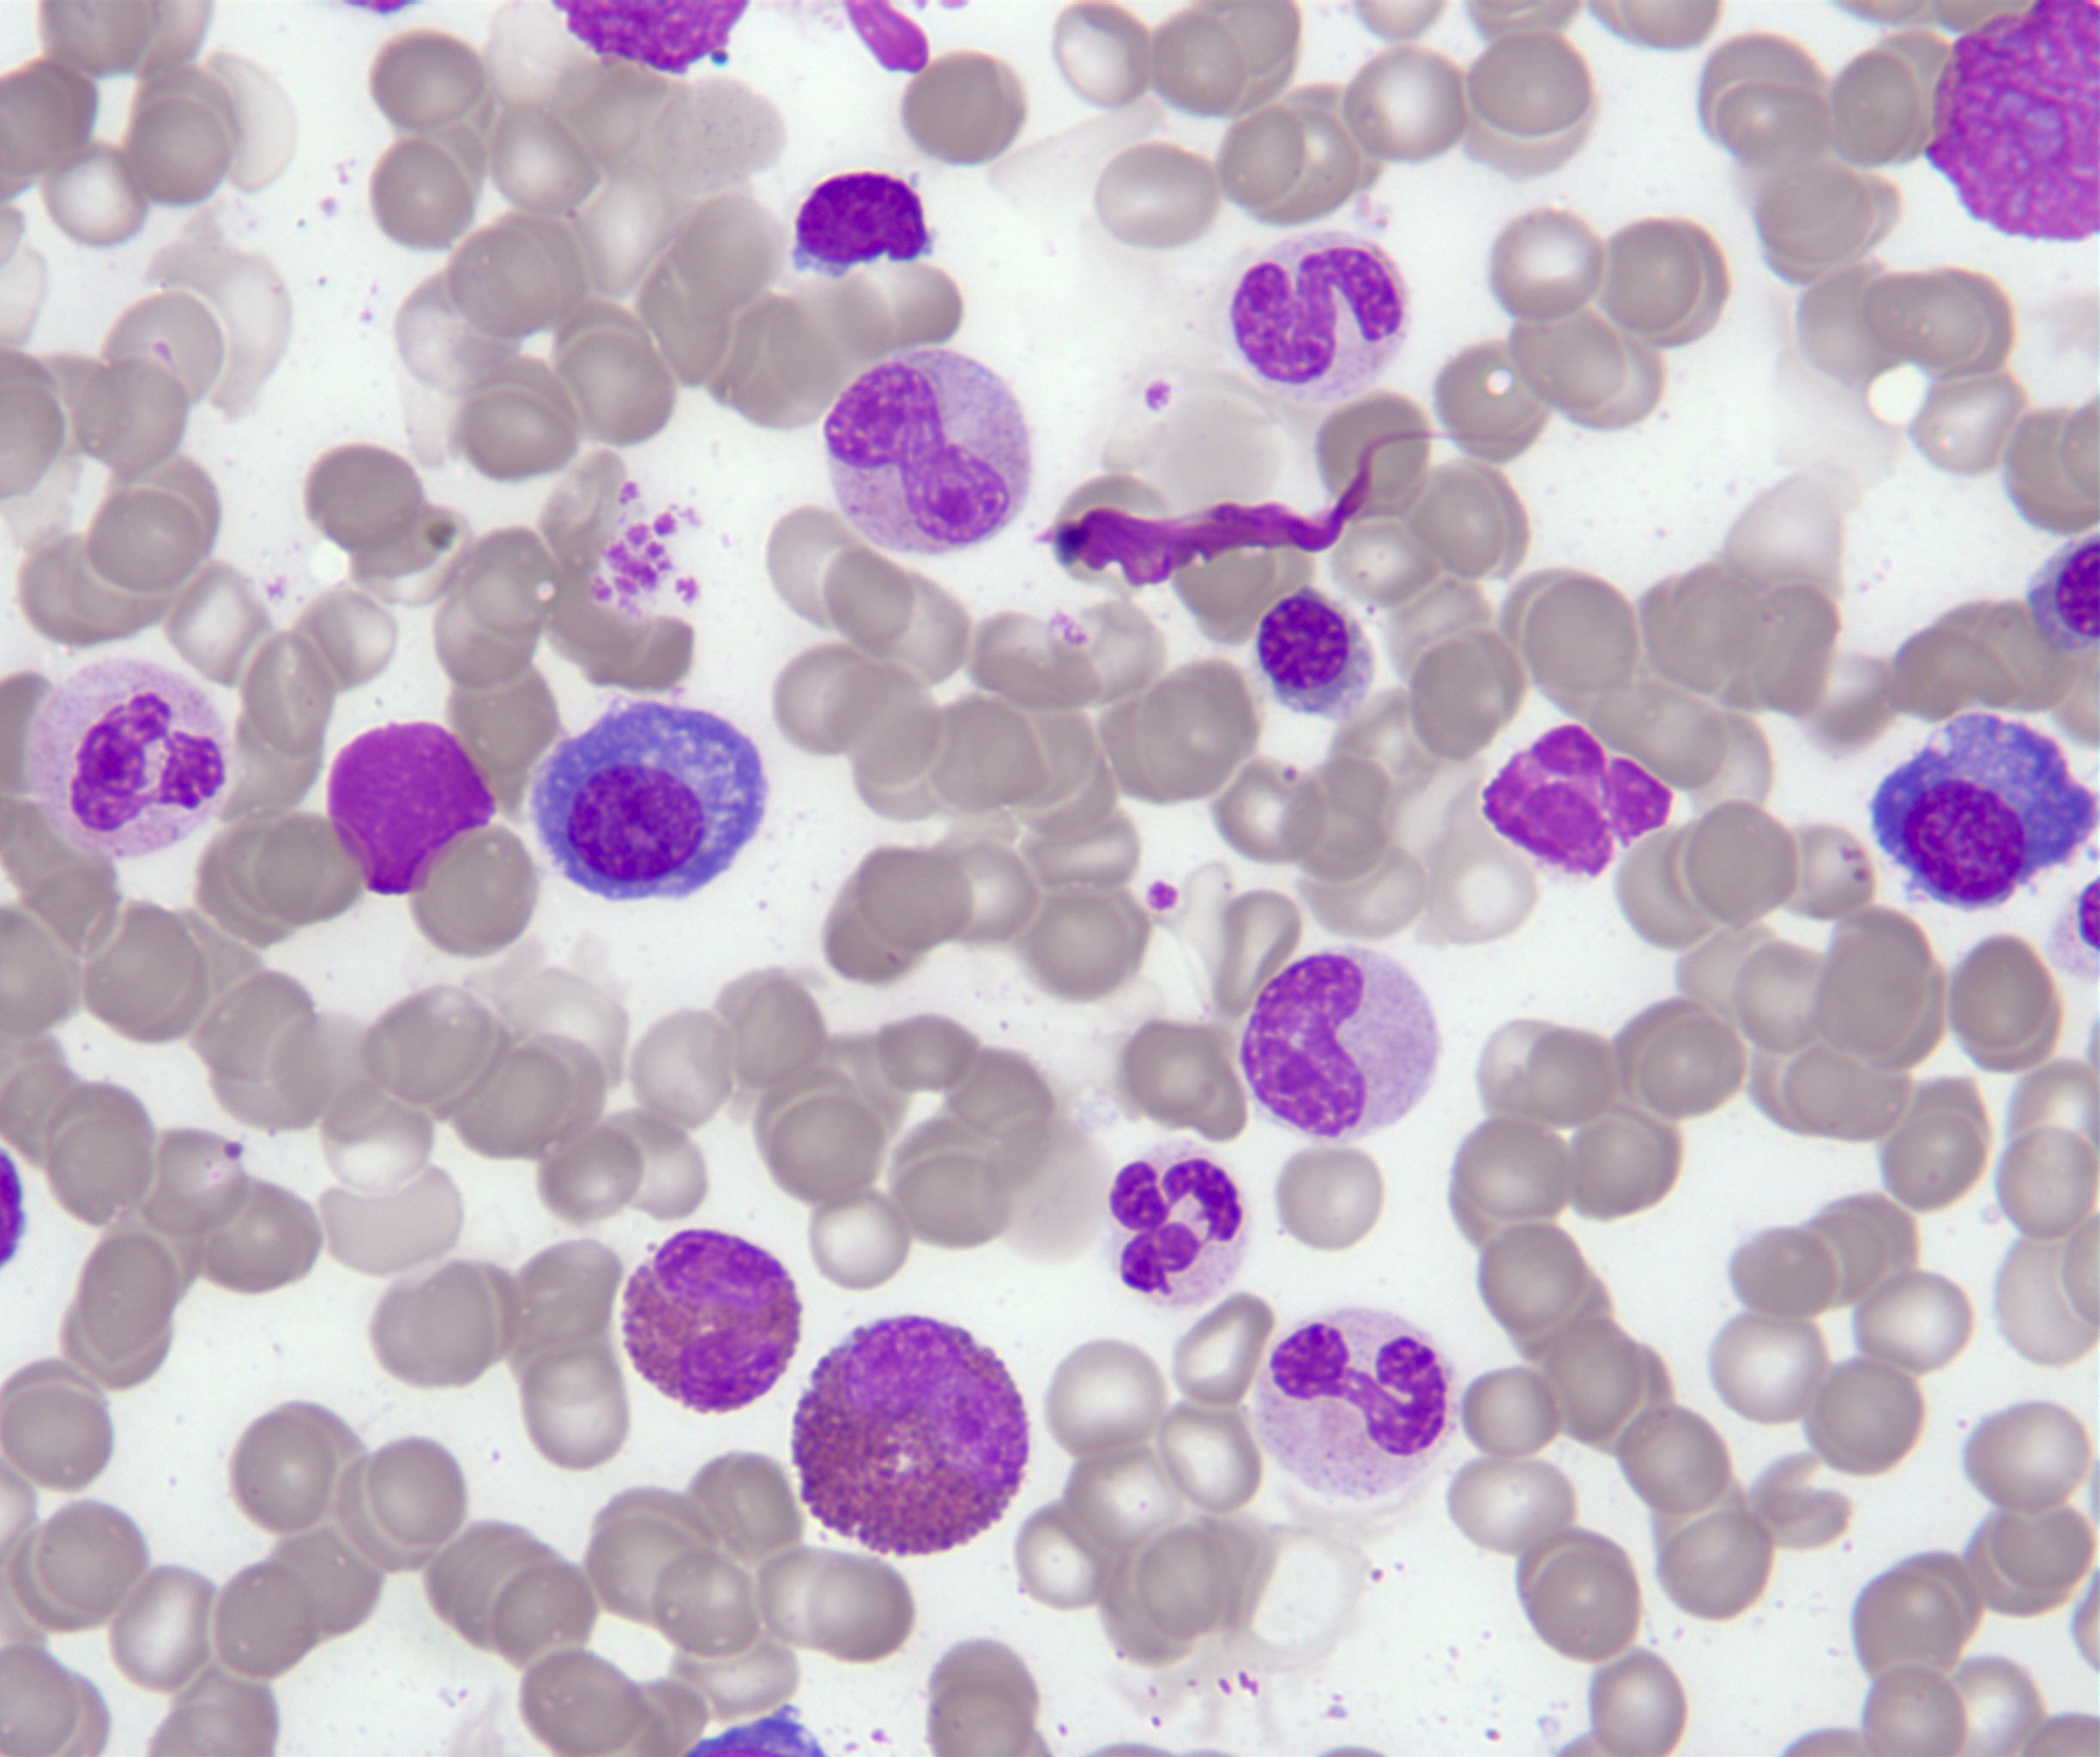24: (1247, 585, 1376, 721)
32: (785, 161, 940, 281)
4: (820, 345, 1036, 562), (1230, 940, 1444, 1148)
5: (1245, 1302, 1467, 1506), (1219, 227, 1420, 415)
52: (523, 696, 769, 907), (1861, 714, 2100, 920)
6: (19, 654, 241, 862), (1108, 1136, 1256, 1312)
E2: (785, 1310, 1033, 1560)
E4: (614, 1223, 809, 1422)
x: (1470, 715, 1680, 886), (321, 714, 508, 899)
